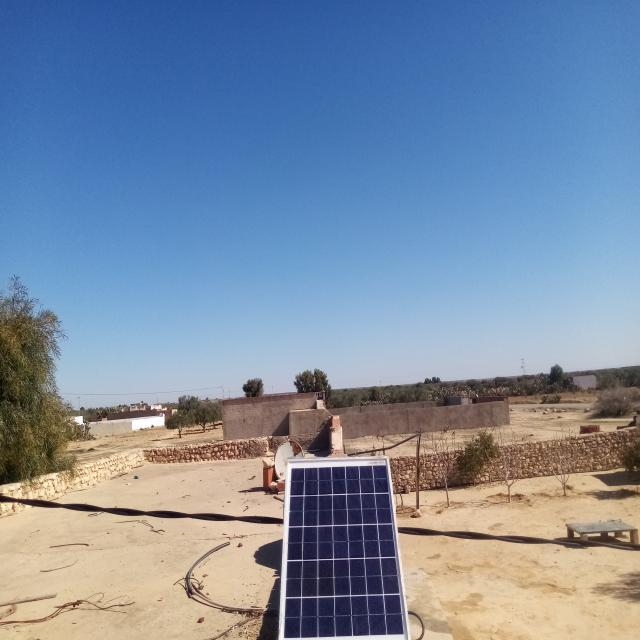no faulty: (278, 457, 410, 640)
